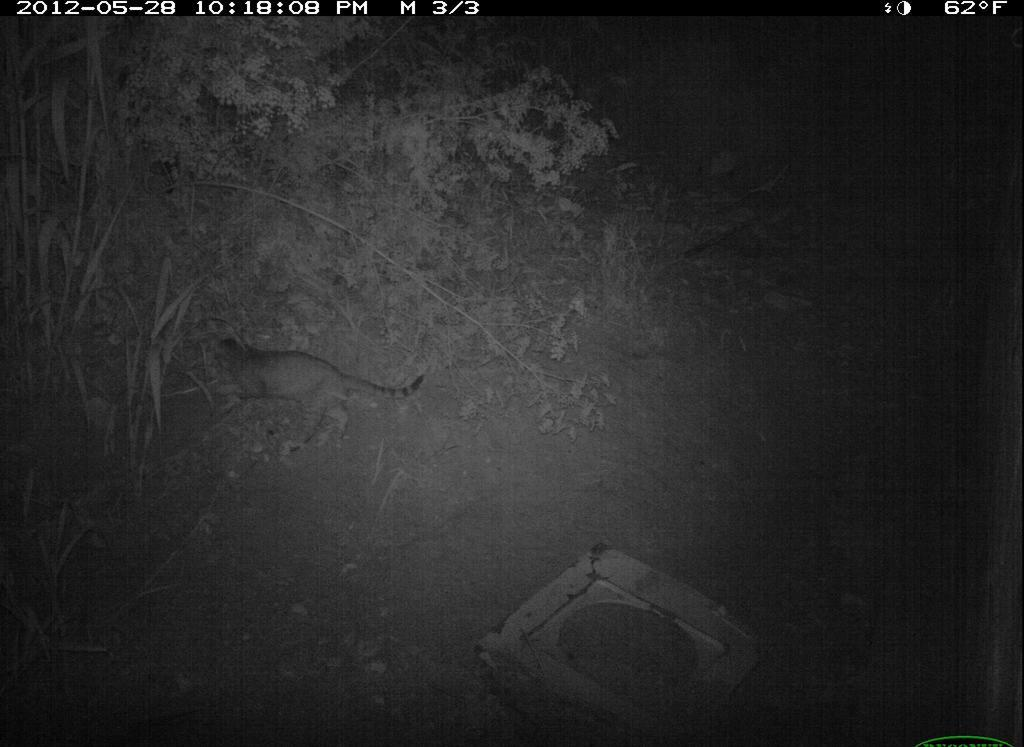cat: (198, 324, 432, 464)
